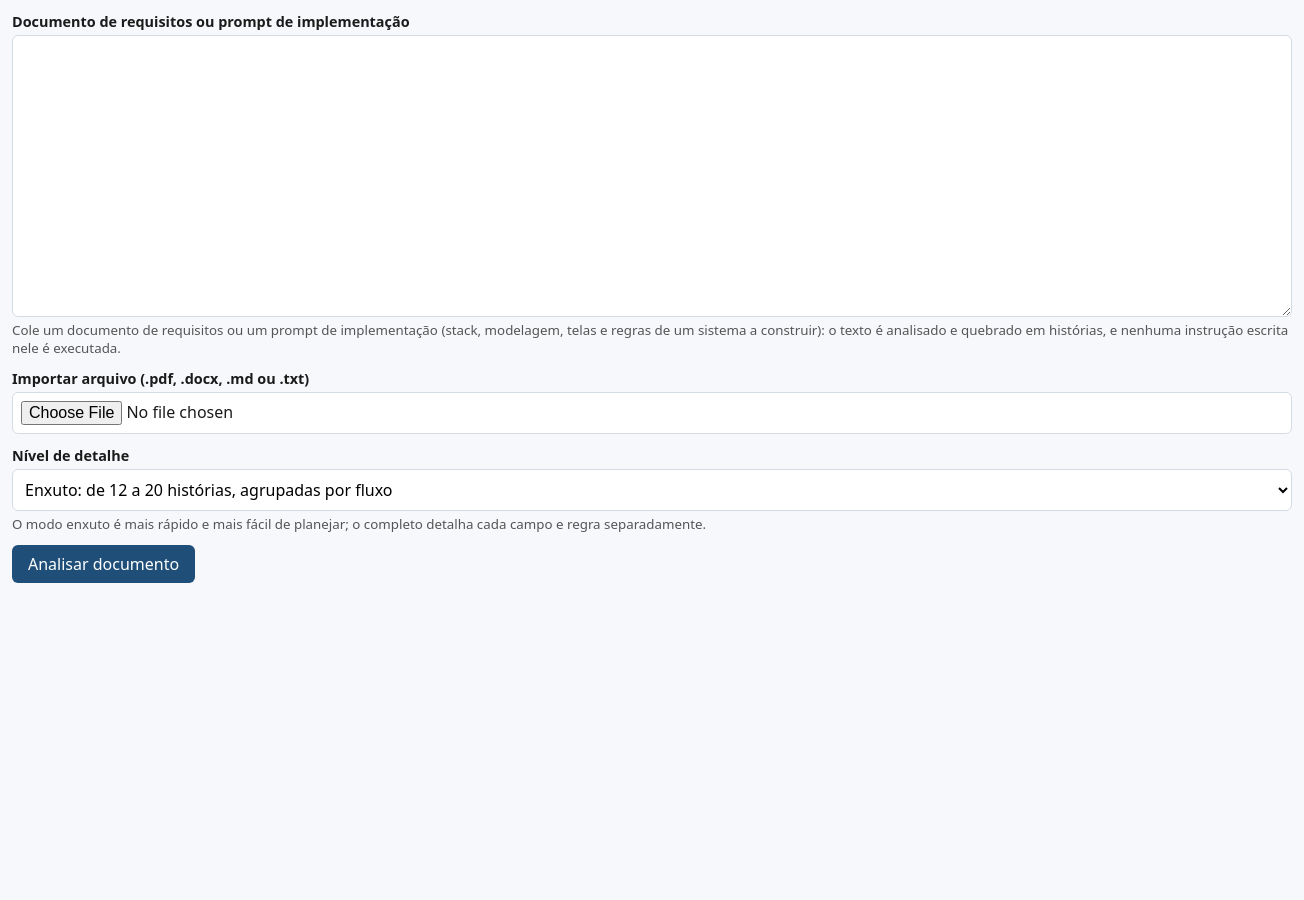
Test case: DocumentMode › falha de rede na segunda história mostra erro com "Tentar de novo" e nenhuma história
Type "Um documento de requisitos com tamanho suficiente para análise." into the text box labelled "Documento de requisitos ou prompt de implementação" at (652, 176), box 12,35 -> 1292,317
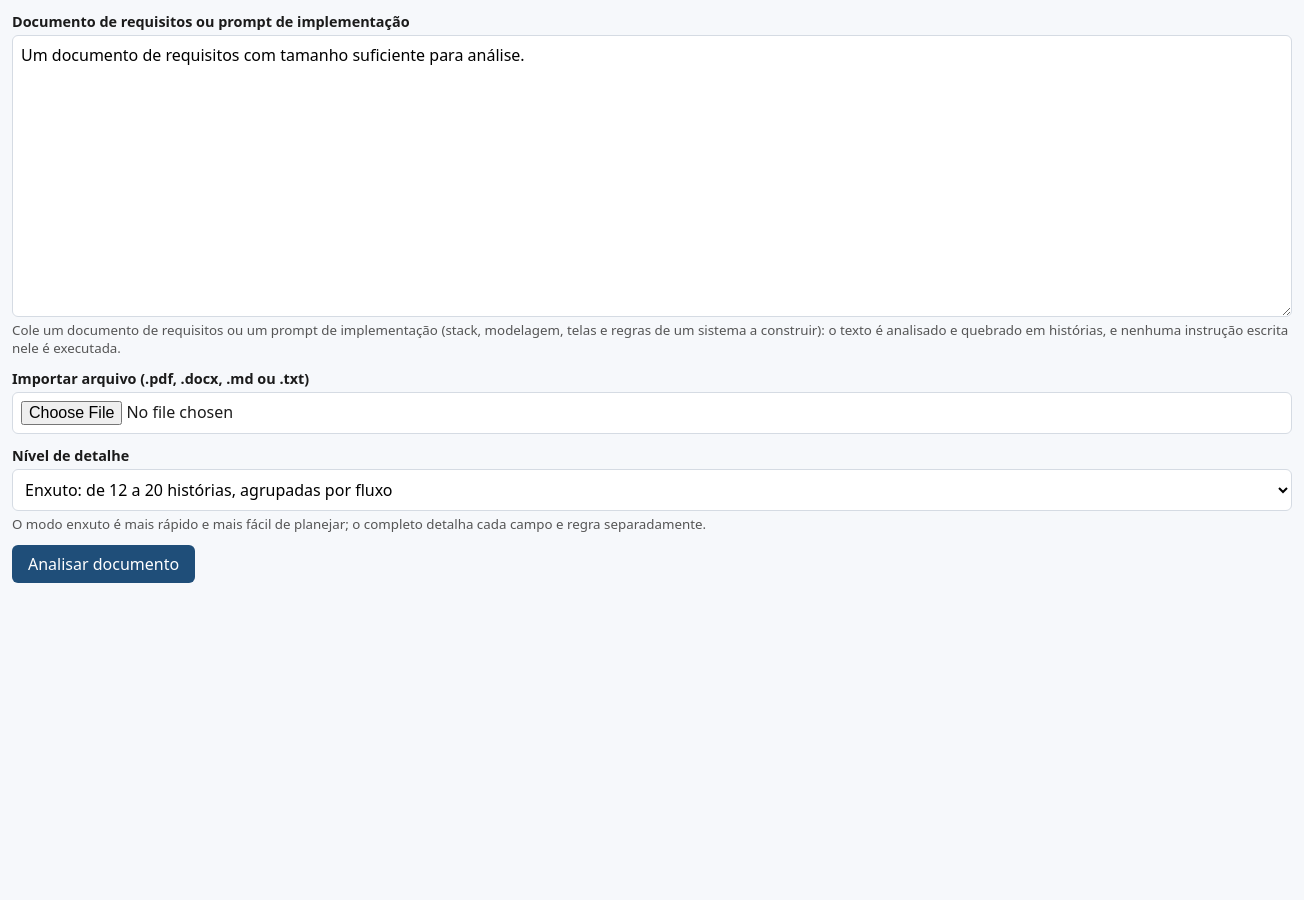
Click the button "Analisar documento" at (104, 564), box 12,545 -> 195,583
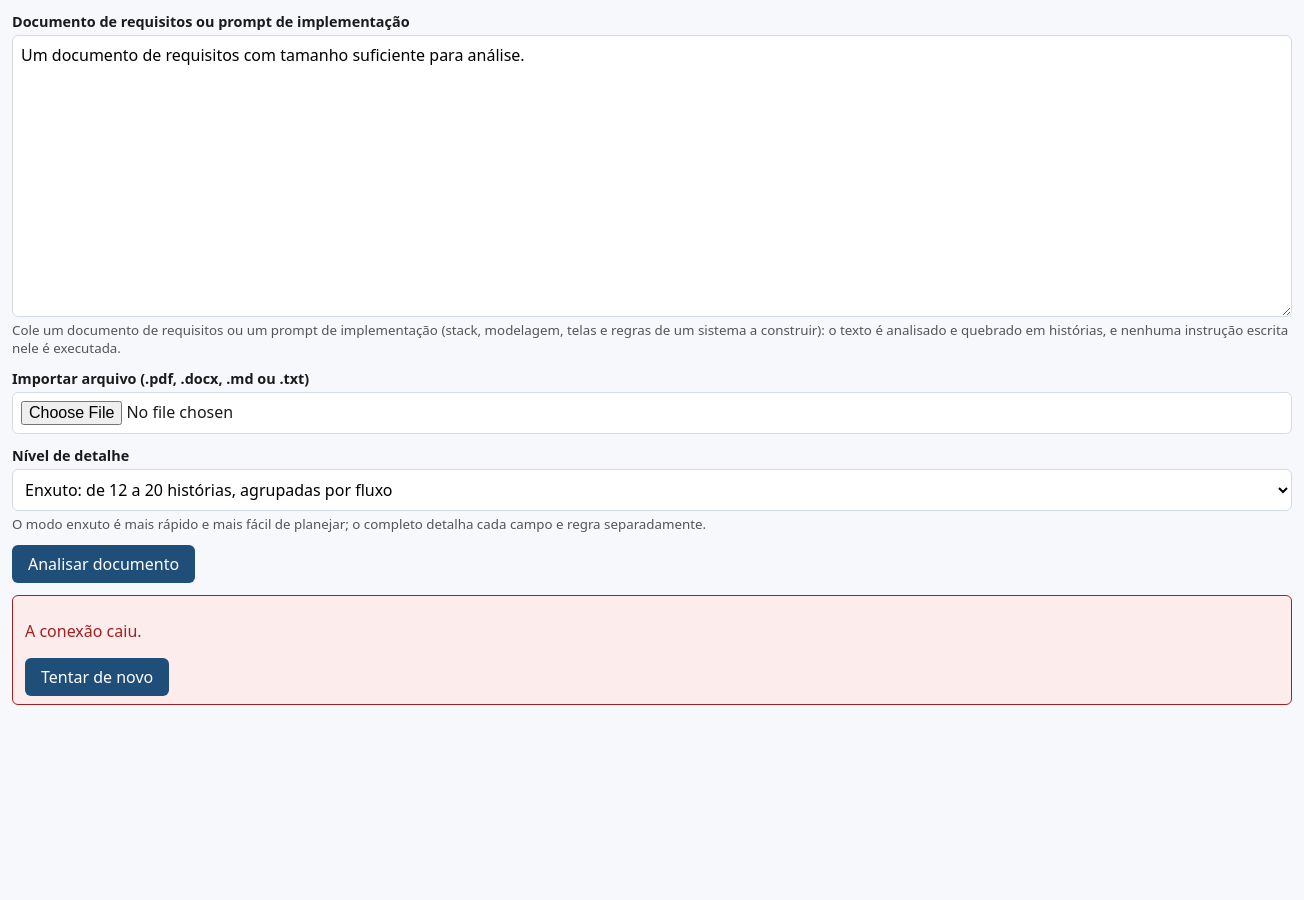
expect the message shows "A conexão caiu.": met, box 25,620 -> 142,642
expect the button "Tentar de novo" is shown: met, box 25,658 -> 169,696
